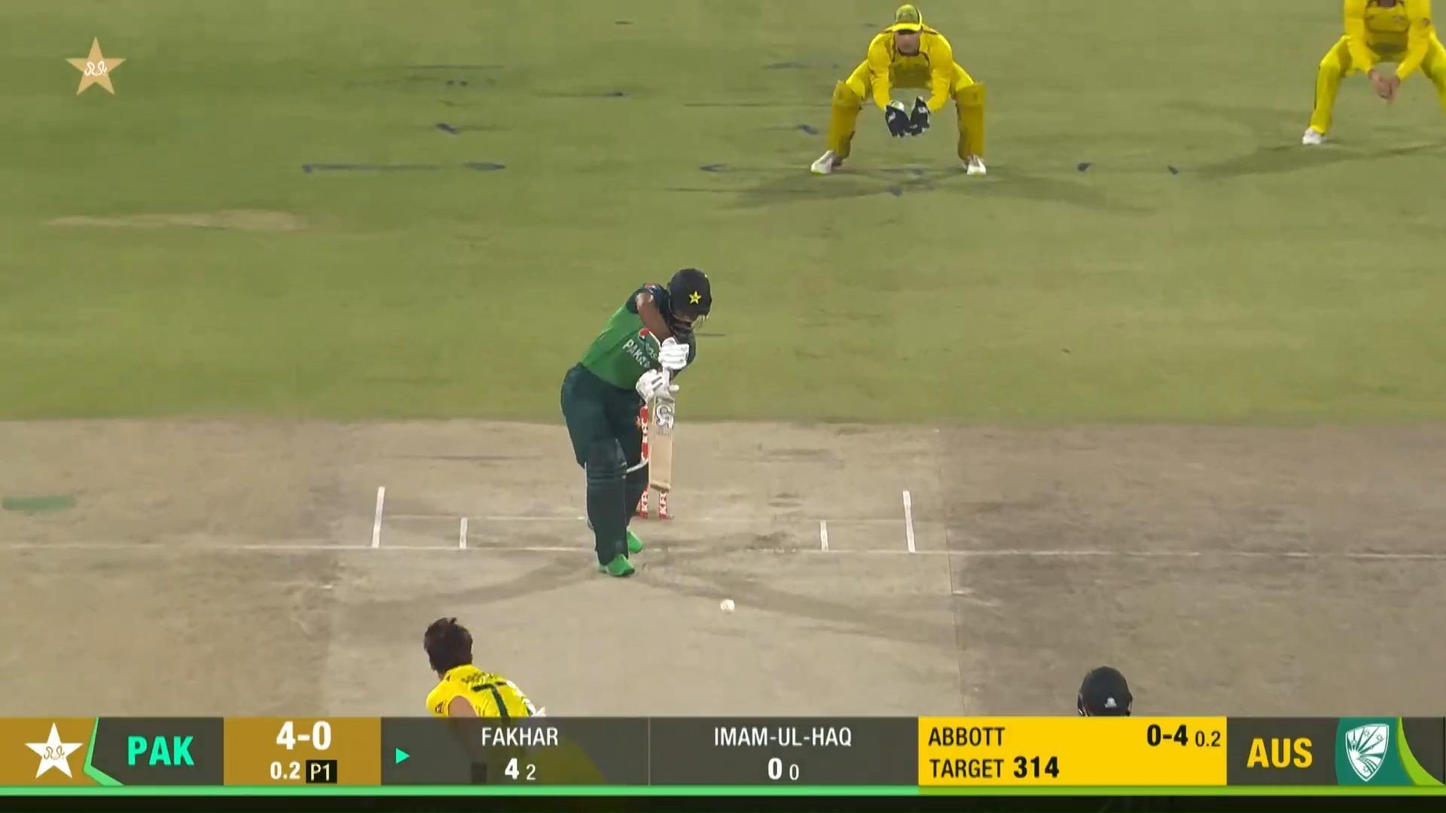BM 1: (560, 267, 713, 577)
BO: (421, 614, 611, 786)
